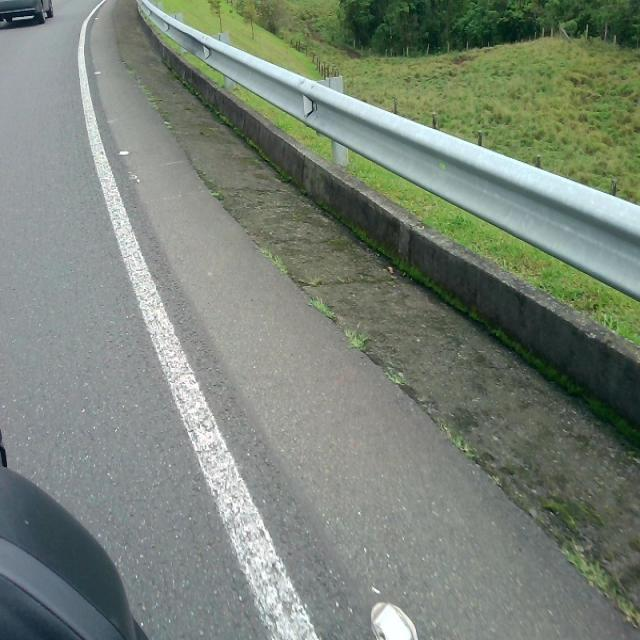DITCH: (88, 0, 639, 638)
